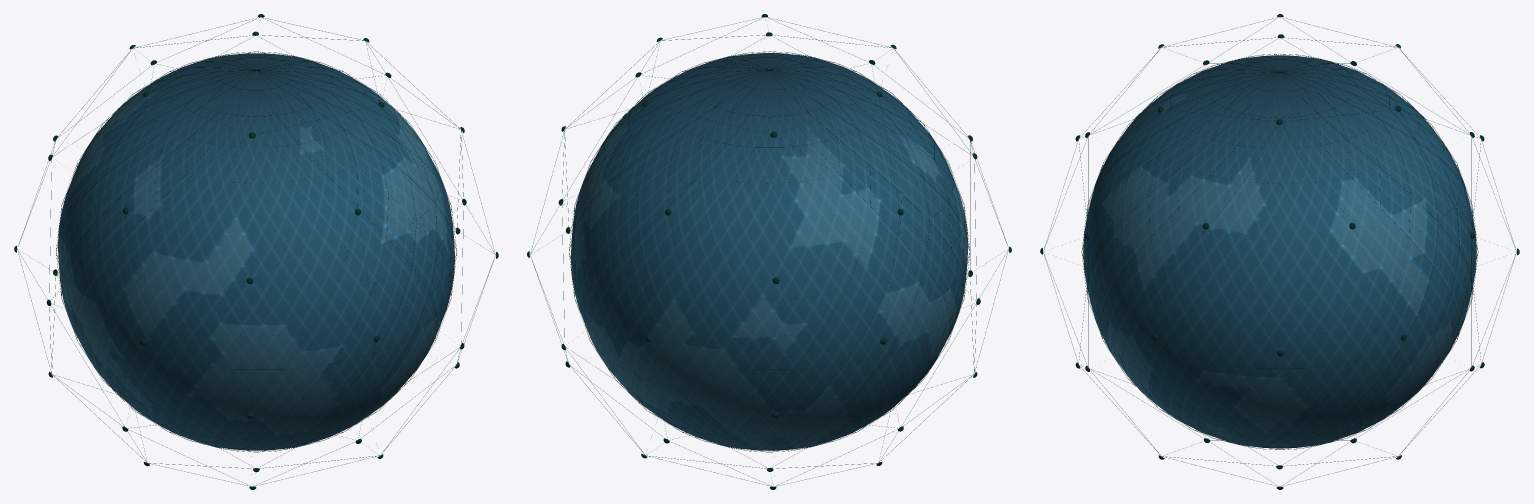
File: Planet_Blue.dae
The picture shows the model from 3 angles, left to right: view 1: azimuth 30°, elevation 25°; view 2: azimuth 150°, elevation 25°; view 3: azimuth 270°, elevation 25°; orthographic projection.
Parts seen in each view (by area): view 1: SphereTexture, SphereLines, LinesExt, BallsExt1; view 2: SphereTexture, SphereLines, LinesExt, BallsExt1; view 3: SphereTexture, SphereLines, LinesExt, BallsExt1.
Part boxes in pixels (x1=…): SphereTexture: x1=58, y1=53, x2=454, y2=450; SphereLines: x1=56, y1=51, x2=456, y2=452; LinesExt: x1=17, y1=17, x2=495, y2=486; BallsExt1: x1=14, y1=14, x2=498, y2=489; SphereTexture: x1=570, y1=53, x2=968, y2=450; SphereLines: x1=569, y1=51, x2=969, y2=452; LinesExt: x1=530, y1=16, x2=1008, y2=486; BallsExt1: x1=527, y1=14, x2=1011, y2=489; SphereTexture: x1=1083, y1=55, x2=1476, y2=448; SphereLines: x1=1081, y1=54, x2=1478, y2=449; LinesExt: x1=1043, y1=17, x2=1516, y2=486; BallsExt1: x1=1040, y1=14, x2=1519, y2=489.
Size of the model in its own units: 2.44 by 2.44 by 2.44.
Materials: 4 (1 with a texture image).
